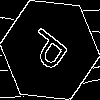P: (25, 25, 77, 79)
